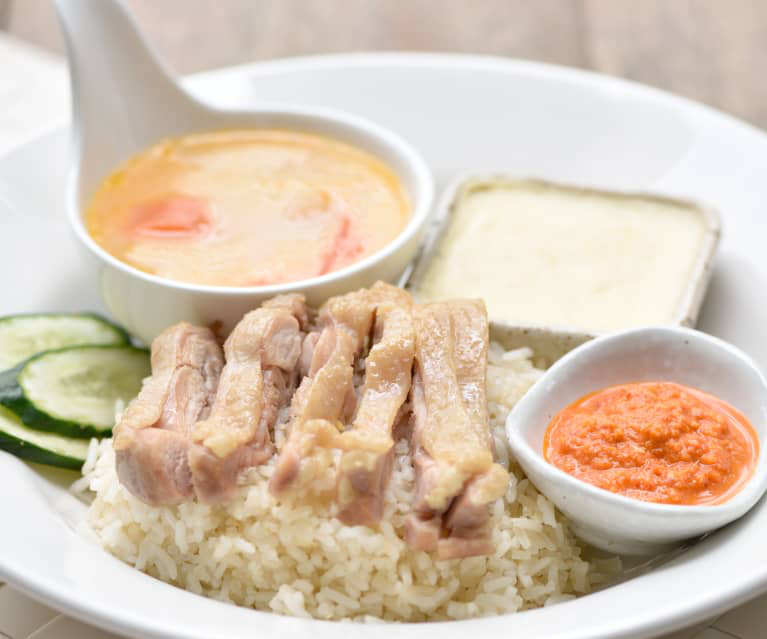Steamed Chicken Rice: (108, 279, 568, 638)
